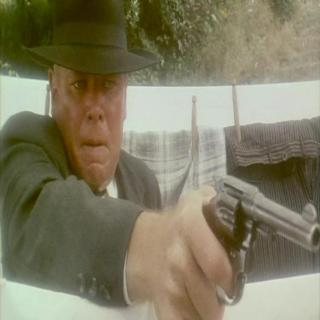gun: (170, 164, 320, 320)
